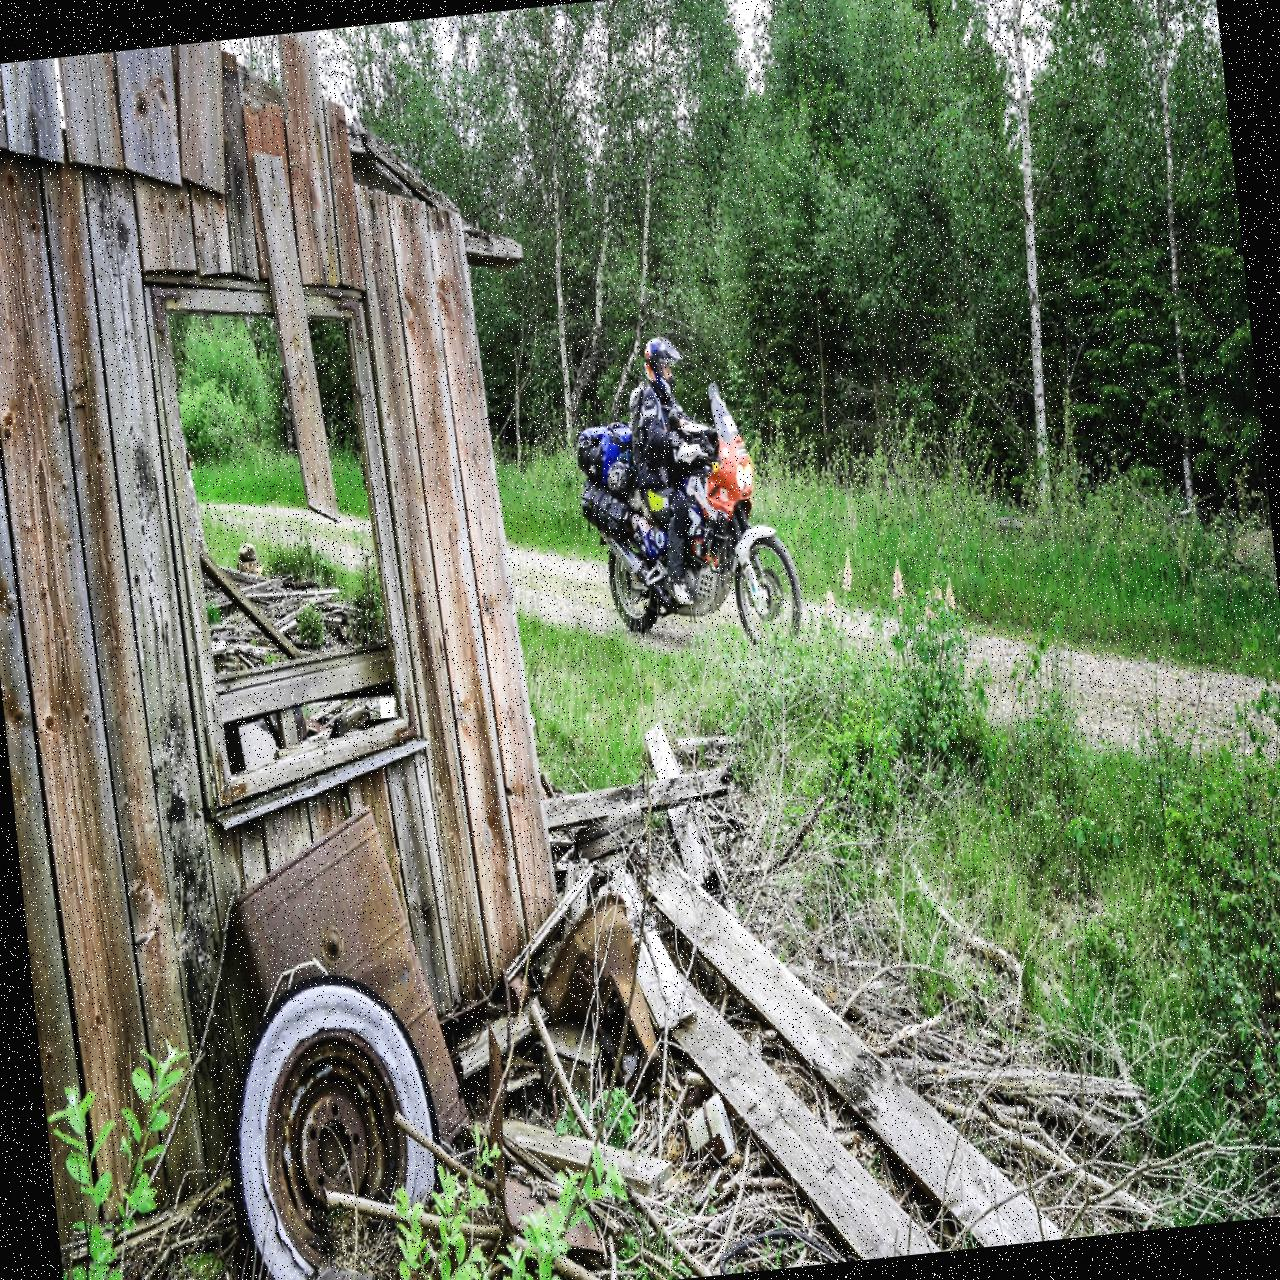MB: (568, 372, 817, 680)
